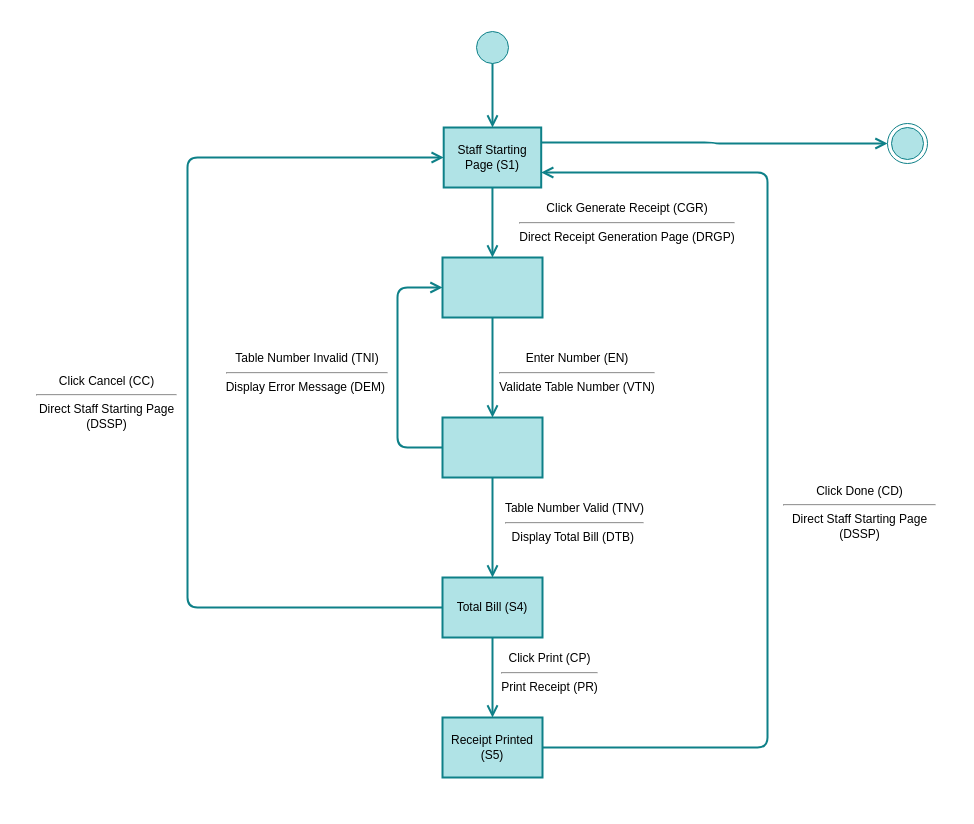
The diagram is 974 pixels wide and 824 high, and some of its shapes have lost their labels. The shapes that lost their labels are listed below. From the top down, each one's box as (x1, y1, x2, y2) in pixels, then its label:
(441, 256, 543, 318): Receipt Generation Page (S2)
(441, 416, 543, 478): Table Number Validation (S3)
